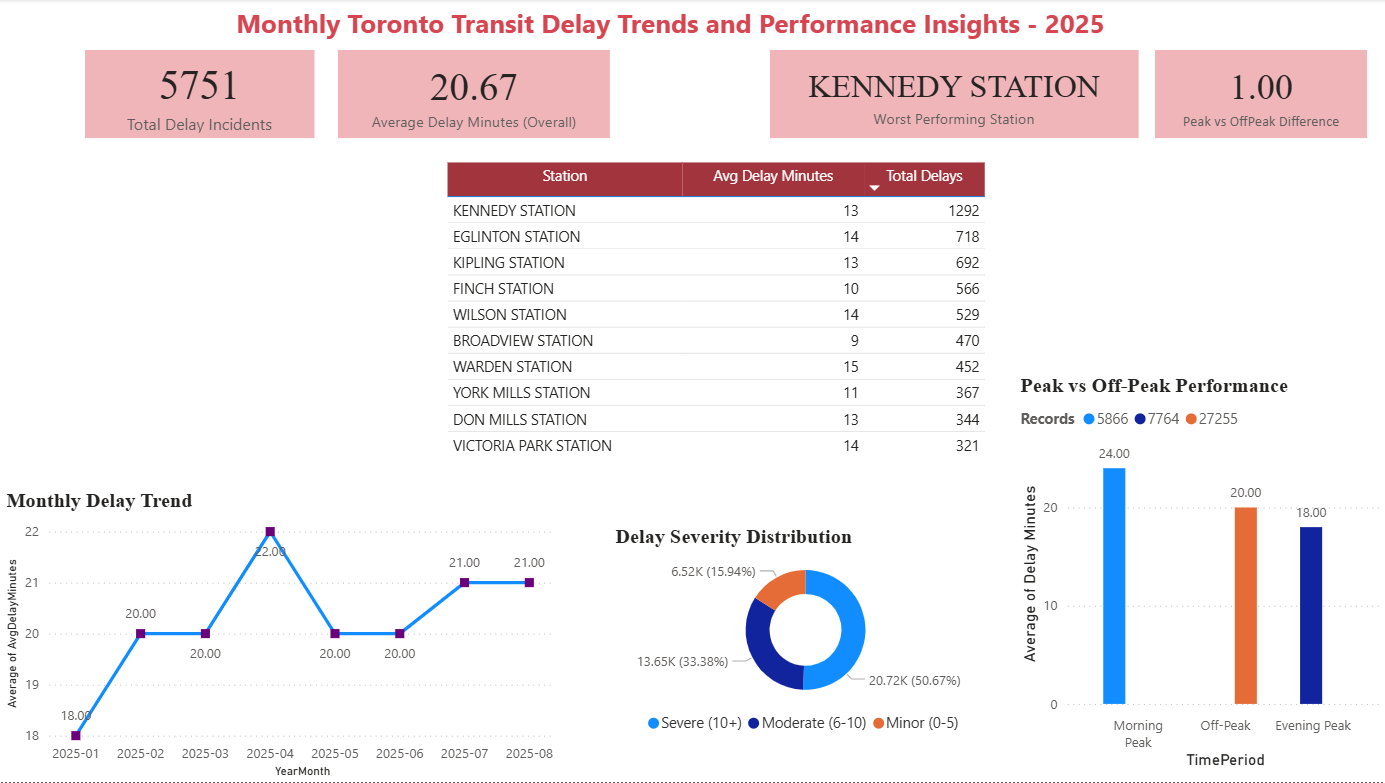

Layout of this report page (visuals, bound fields, positions):
{"tool":"powerbi","page":{"name":"Page 1","canvas":[1280,720],"ordinal":0},"visuals":[{"type":"lineChart","title":"Monthly Delay Trend","fields":{"Category":["vw_monthly_delay_trends.YearMonth"],"Y":["Avg(vw_monthly_delay_trends.AvgDelayMinutes)"]},"box":[4.7,450.3,516.7,270],"z":0},{"type":"clusteredColumnChart","title":"Peak vs Off-Peak Performance","fields":{"Category":["vw_peak_vs_offpeak.TimePeriod"],"Y":["Avg(vw_peak_vs_offpeak.AvgDelayMinutes)"],"Series":["vw_peak_vs_offpeak.Records"]},"box":[936.7,344.4,343.3,367.7],"z":1000},{"type":"donutChart","title":"Delay Severity Distribution","fields":{"Category":["gold_fact_delay.DelaySeverity"],"Y":["CountNonNull(gold_fact_delay.Min_Delay)"]},"box":[564.4,484.1,359.6,201.3],"z":2000},{"type":"textbox","box":[174.7,0,891,45.1],"z":3000},{"type":"card","fields":{"Values":["Sum(vw_top_stations.TotalDelays)"]},"box":[81.5,46.5,210.6,81.5],"z":4000},{"type":"card","fields":{"Values":["Avg(vw_peak_vs_offpeak.AvgDelayMinutes)"]},"box":[314.2,46.5,250.2,81.5],"z":5000},{"type":"card","fields":{"Values":["vw_top_stations.Worst Performing Station"]},"box":[712.1,46.5,338.6,81.5],"z":6000},{"type":"card","fields":{"Values":["vw_peak_vs_offpeak.Peak vs OffPeak Difference"]},"box":[1065.9,46.5,195.5,81.5],"z":7000},{"type":"tableEx","fields":{"Values":["vw_top_stations.Station","vw_top_stations.AvgDelayMinutes","vw_top_stations.TotalDelays"]},"box":[409.6,145.5,506.2,281.6],"z":8000}]}

Visuals, with their boxes in screenshot pixels (x1, y1, x2, y2), scaled from the page's 1280x720 canvas onto the 1385x783 screenshot:
"Monthly Delay Trend" lineChart: left=5, top=490, right=564, bottom=782
"Peak vs Off-Peak Performance" clusteredColumnChart: left=1014, top=375, right=1384, bottom=774
"Delay Severity Distribution" donutChart: left=611, top=526, right=1000, bottom=745
textbox: left=189, top=0, right=1153, bottom=49
card - Sum(vw_top_stations.TotalDelays): left=88, top=51, right=316, bottom=139
card - Avg(vw_peak_vs_offpeak.AvgDelayMinutes): left=340, top=51, right=611, bottom=139
card - vw_top_stations.Worst Performing Station: left=771, top=51, right=1137, bottom=139
card - vw_peak_vs_offpeak.Peak vs OffPeak Difference: left=1153, top=51, right=1365, bottom=139
tableEx - vw_top_stations.Station x vw_top_stations.AvgDelayMinutes: left=443, top=158, right=991, bottom=464
